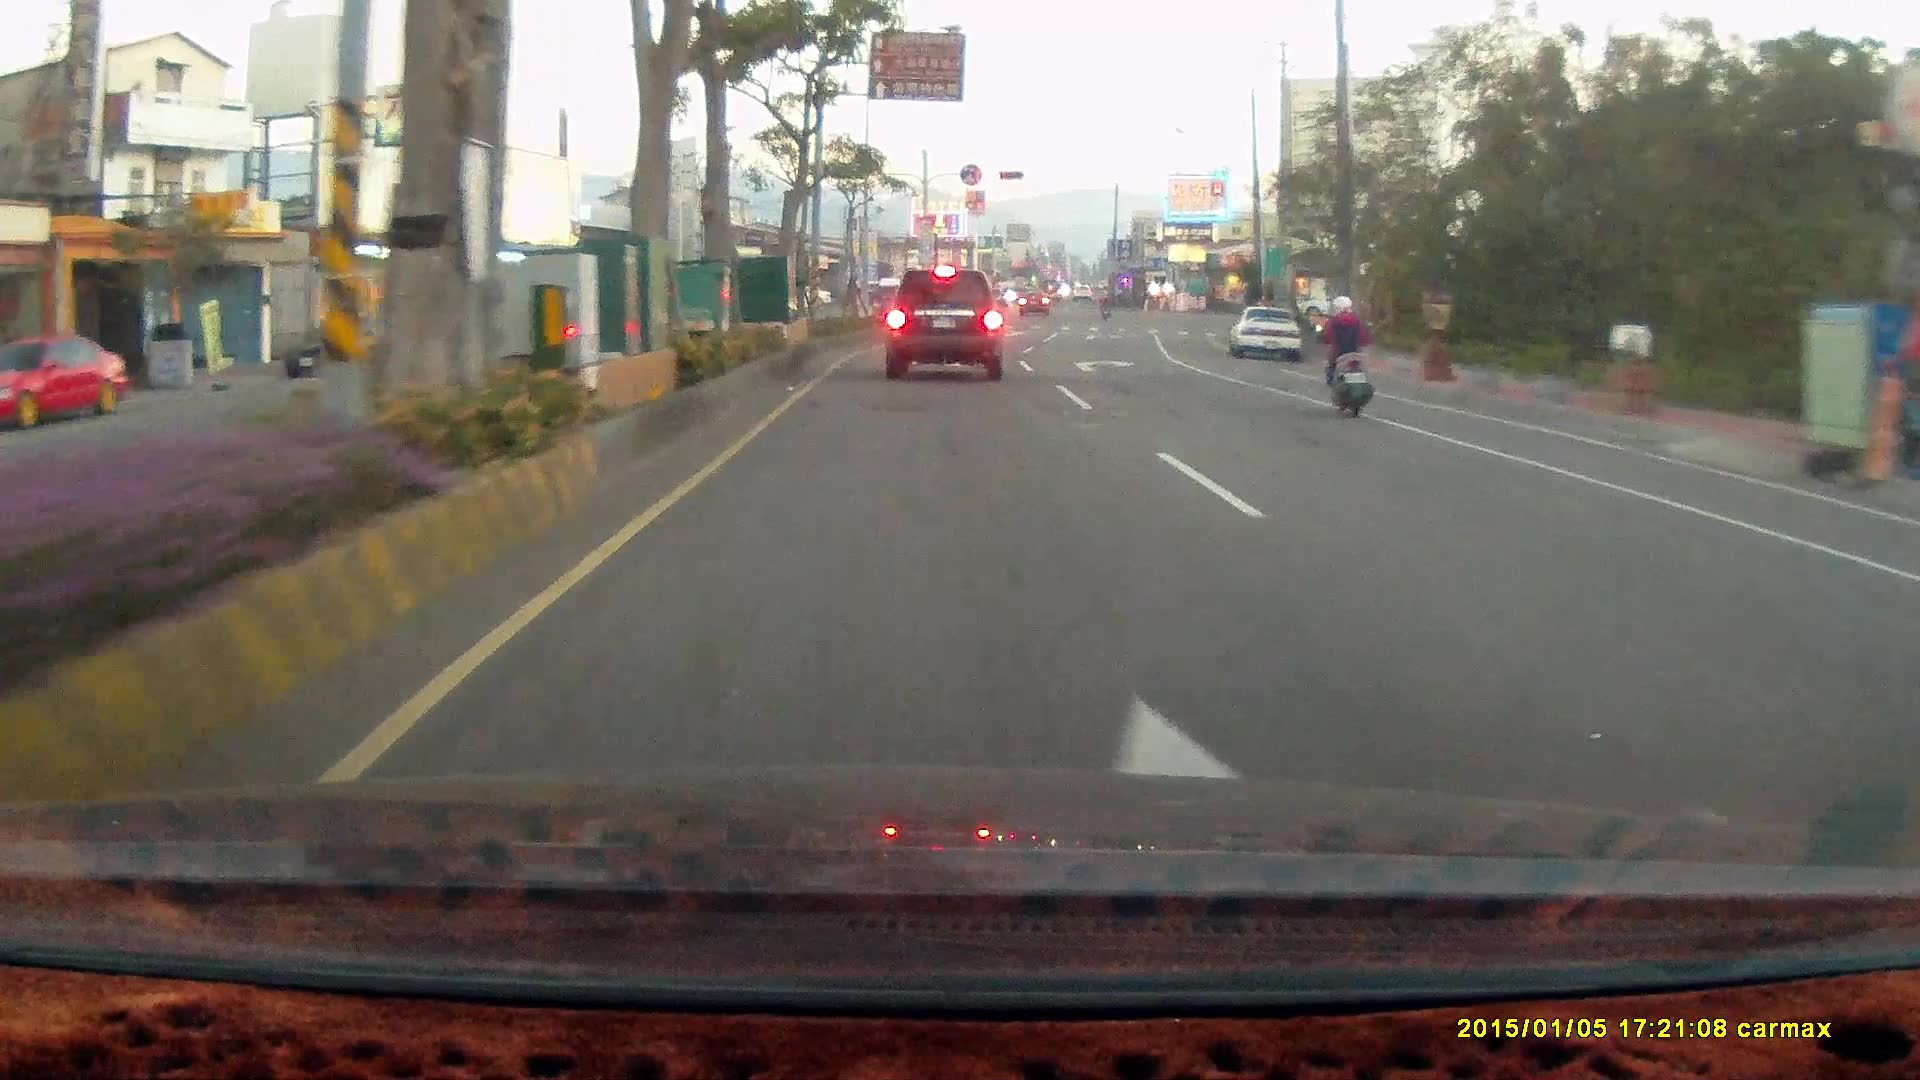rider: (1313, 293, 1374, 419)
vehicle: (883, 264, 1002, 381), (1, 333, 130, 432), (1896, 493, 1920, 836), (1883, 528, 1920, 690), (1226, 303, 1301, 363), (1233, 307, 1305, 362), (1294, 283, 1366, 320)
